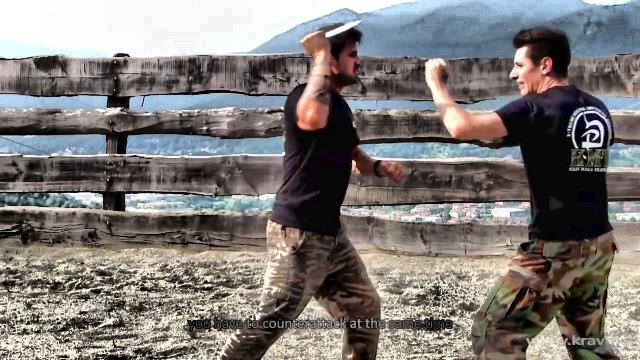knife: (300, 12, 364, 52)
